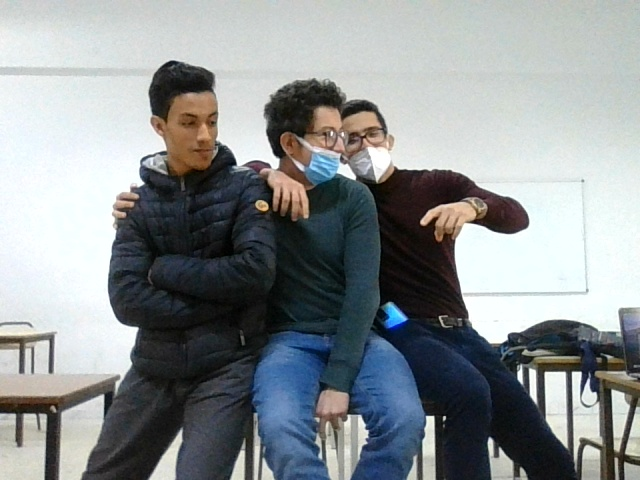mask_weared_incorrect: (252, 75, 345, 194), (345, 103, 398, 187)
without_mask: (147, 56, 221, 178)
